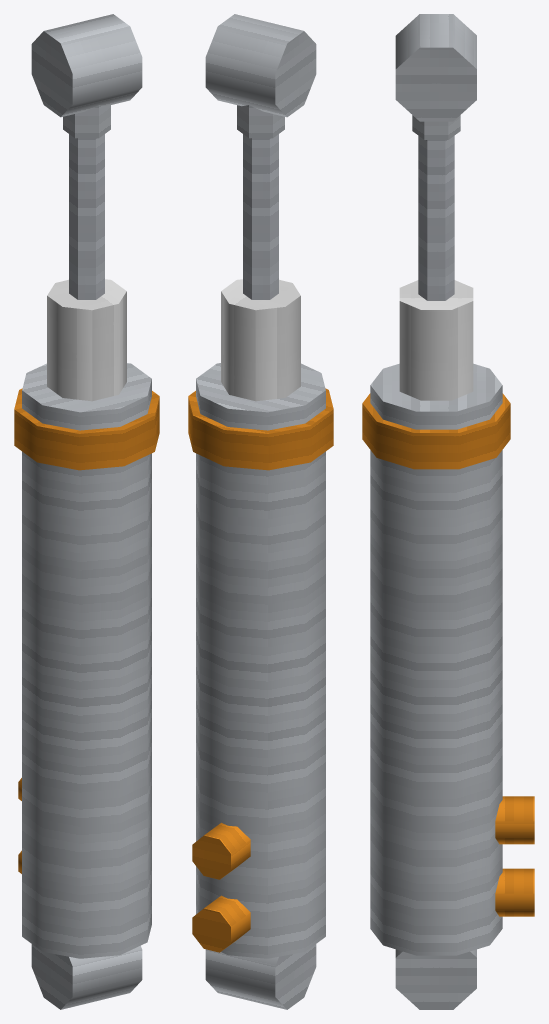
File: amortecedores_n3.glb
The picture shows the model from 3 angles, left to right: view 1: azimuth 30°, elevation 25°; view 2: azimuth 150°, elevation 25°; view 3: azimuth 270°, elevation 25°; orthographic projection.
Visible parts, largest first — view 1: amortecedores_n3; view 2: amortecedores_n3; view 3: amortecedores_n3.
Part boxes in pixels (x1,y1,x2,y2): amortecedores_n3: [14, 14, 159, 1009]; amortecedores_n3: [188, 14, 333, 1009]; amortecedores_n3: [362, 14, 534, 1009].
Bounding box in the file's own units: 0.0704 × 0.5307 × 0.086.
Materials: 2 (2 with a texture image).
